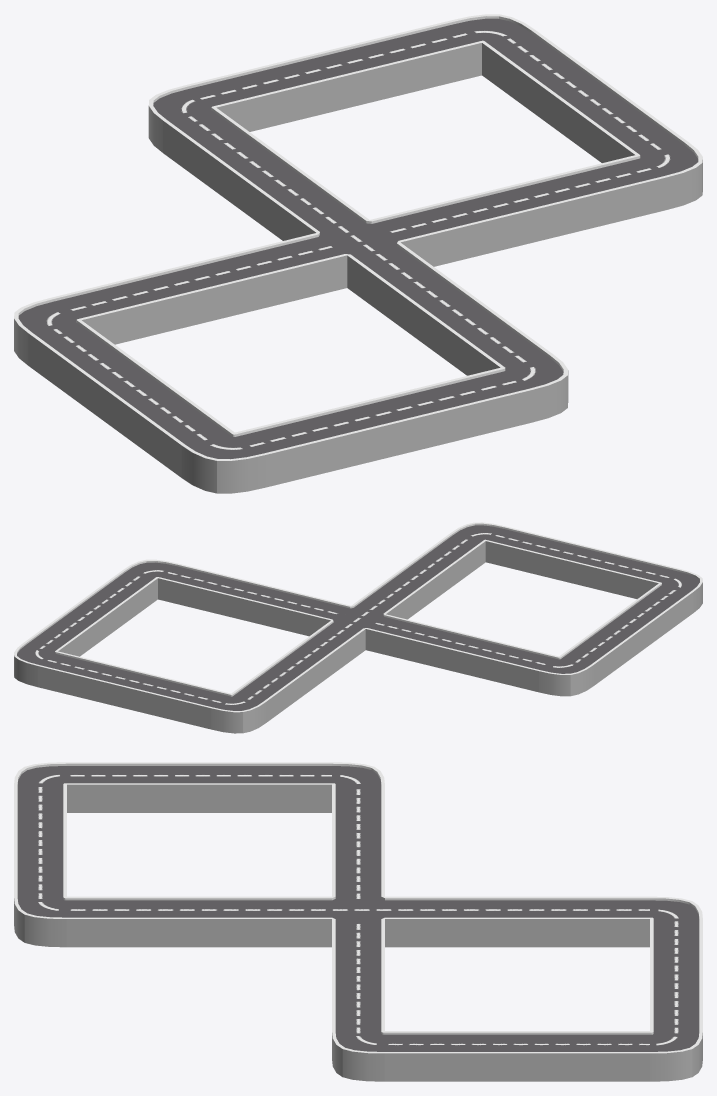
The model's file is level3_road.fbx.
The picture shows the model from 3 angles, top to bottom: view 1: azimuth 30°, elevation 25°; view 2: azimuth 150°, elevation 25°; view 3: azimuth 270°, elevation 25°; orthographic projection. The views are drawn at different scales.
Visible parts, largest first — view 1: level3_road; view 2: level3_road; view 3: level3_road.
Boxes of the visible parts, <box> form: level3_road: <box>14,14,702,493</box>; level3_road: <box>14,522,702,733</box>; level3_road: <box>14,762,702,1081</box>.
Bounding box in the file's own units: 13 × 0.5872 × 13.
